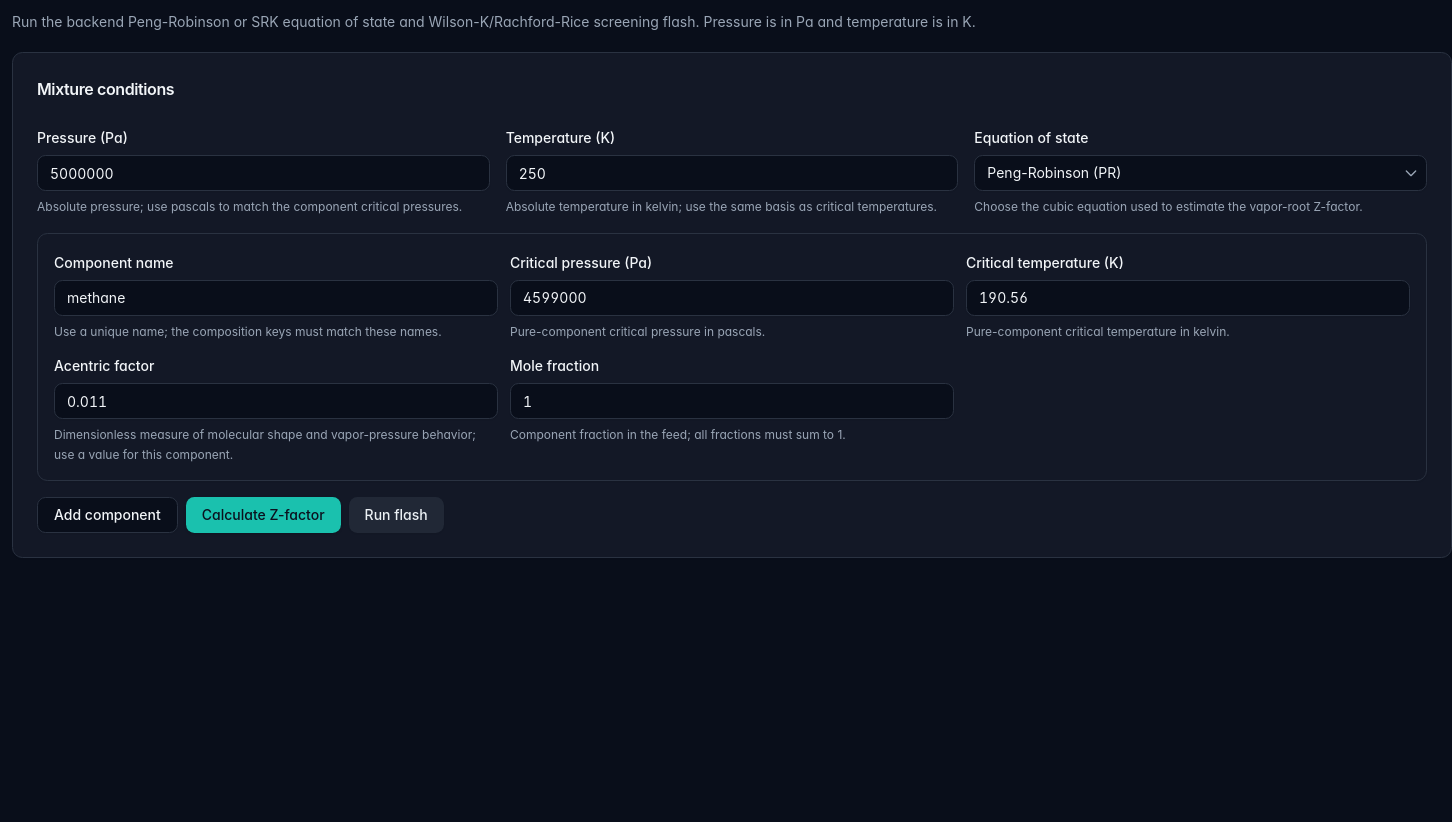
Test: PvtEosFlashView › submits the EOS request and displays its Z-factor
The width and height of the screenshot is (1452, 822).
Click the button "Calculate Z-factor" at (263, 515), box [186,497,341,533]
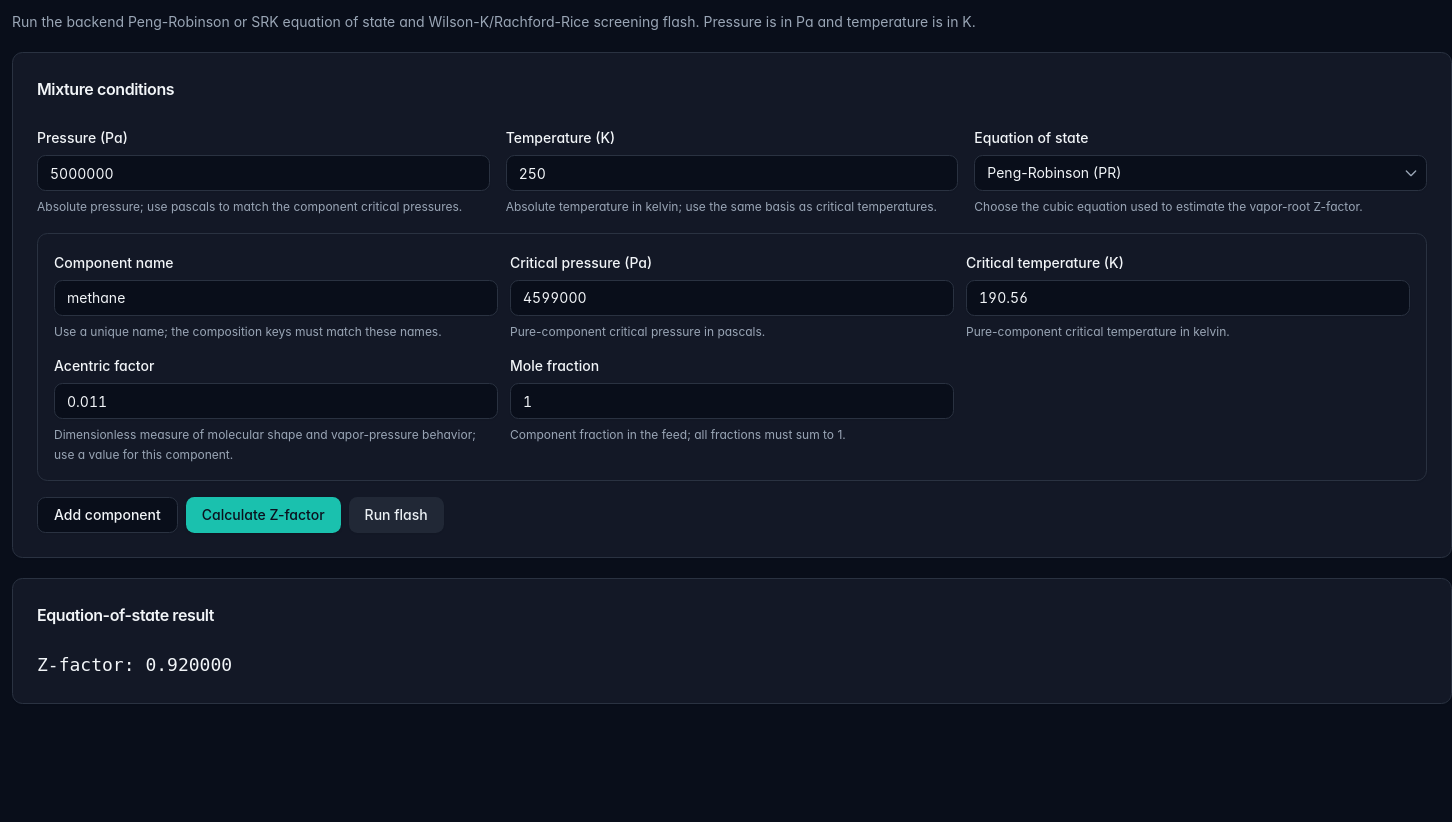
Now the text "Z-factor: 0.920000" is shown, box [37,654,232,675]
